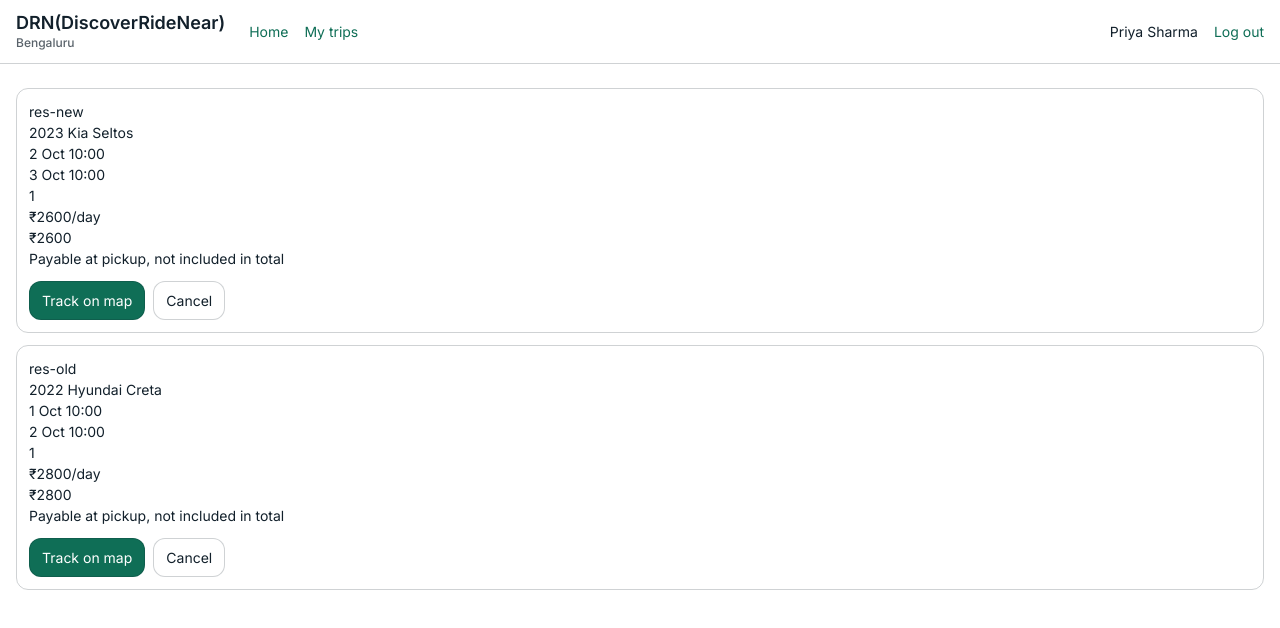
My trips › keeps the trip on screen when cancel fails
The width and height of the screenshot is (1280, 628).
Click the button "Cancel" below "3 Oct 10:00": (189, 300) [153,281,225,320]
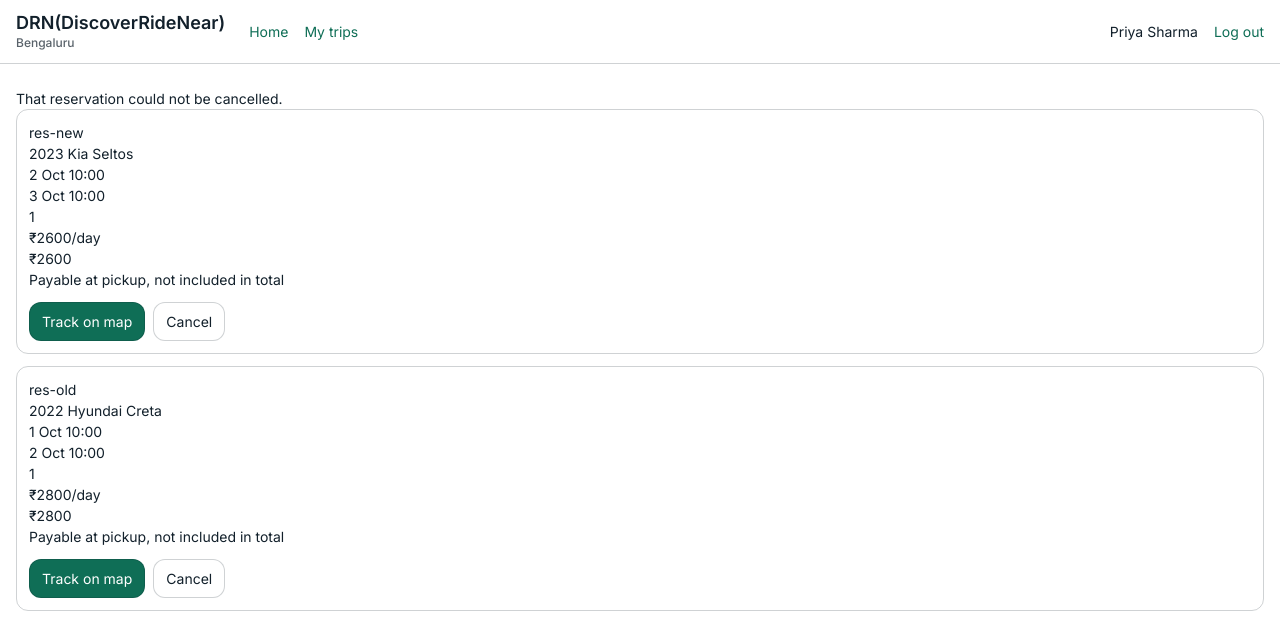
Expected: the text "res-new" is shown, [29,124,84,141]
Expected: the text "That reservation could not be cancelled." is shown, [16,90,283,107]
